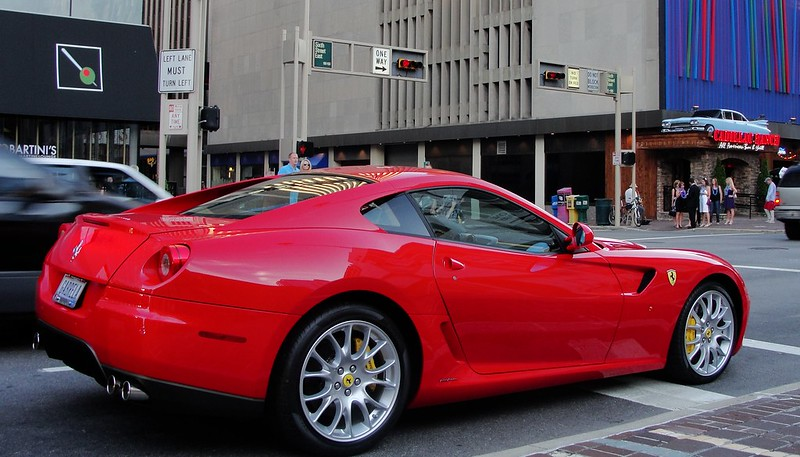car: (30, 164, 757, 457)
